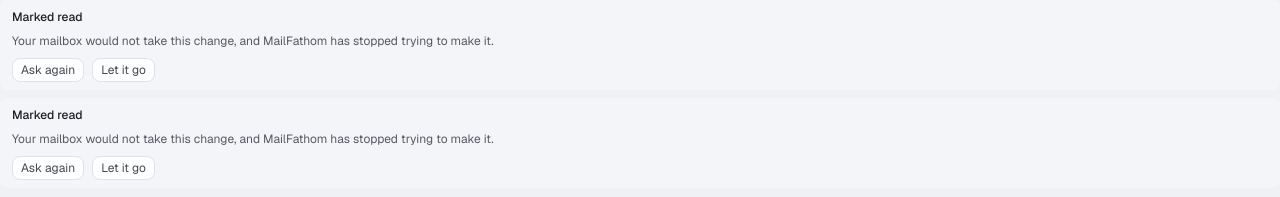
Scenario: PendingChangesProvider › leaves the reader on the change still waiting for an answer when one is settled
The width and height of the screenshot is (1280, 197).
Click the 1st button "Let it go" at x=124, y=70, box [92,58,155,82]
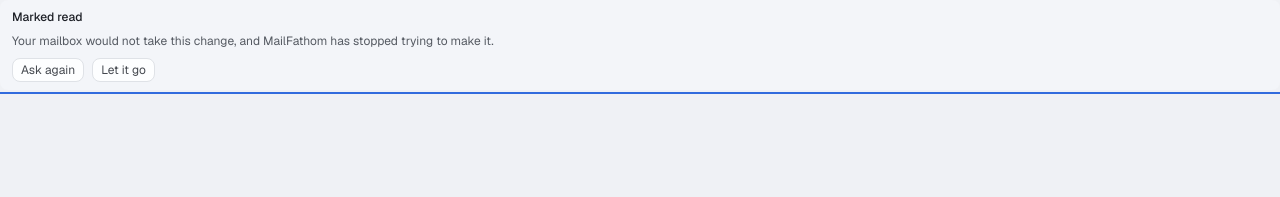
Now the number of list items is 1, box [0,0,1279,90]
